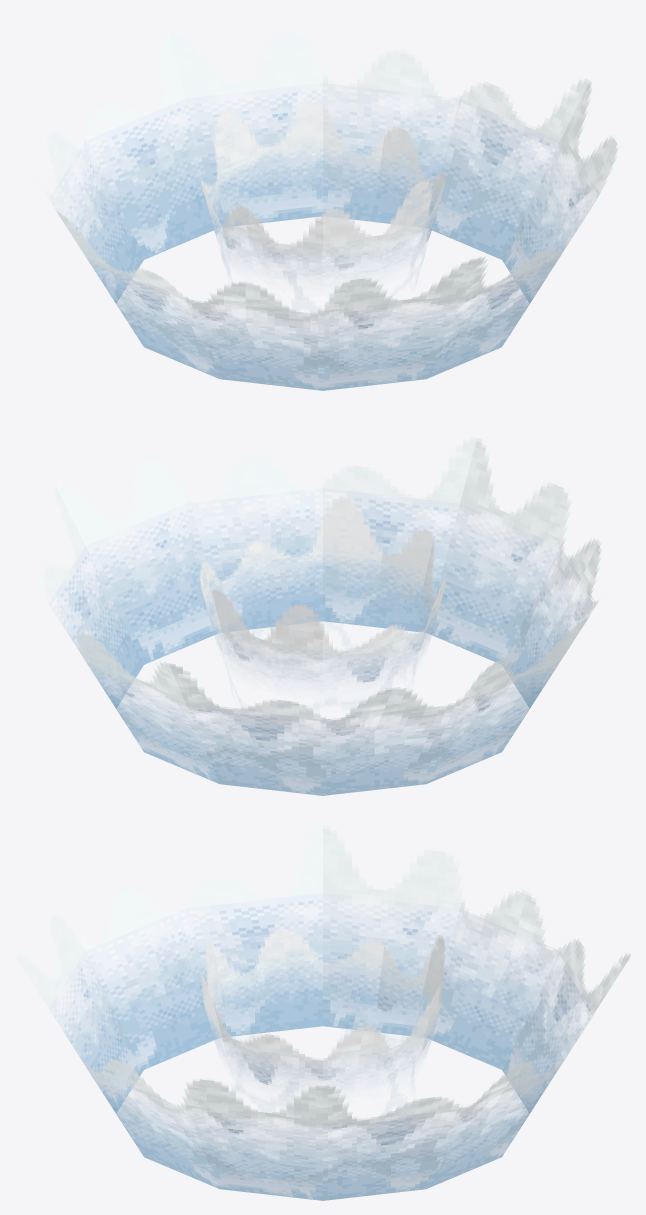
The model's file is old_hyudoro_64-water_efct.glb.
3 views of the same model, one above another, from view 1: azimuth 30°, elevation 25°; view 2: azimuth 150°, elevation 25°; view 3: azimuth 270°, elevation 25° (orthographic).
Parts seen in each view (by area): view 1: water_efct; view 2: water_efct; view 3: water_efct.
Boxes of the visible parts, x1,y1,x2,y2 form: water_efct: [35, 31, 617, 390]; water_efct: [42, 437, 601, 795]; water_efct: [15, 825, 630, 1200].
Size of the model in its own units: 1.76 by 0.5 by 1.76.
Materials: 2 (2 with a texture image).
